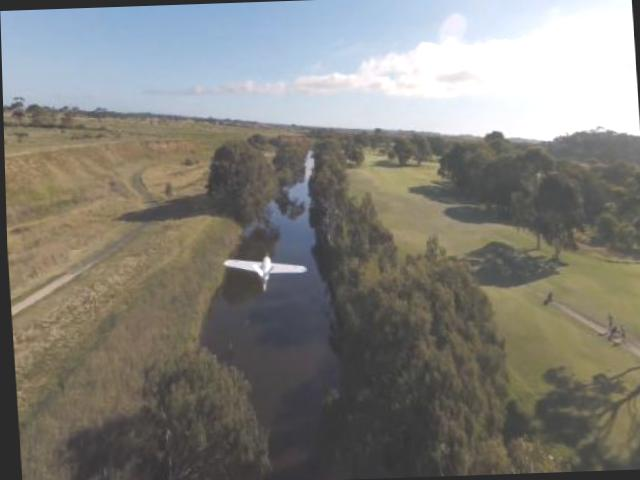uav: (221, 250, 307, 294)
